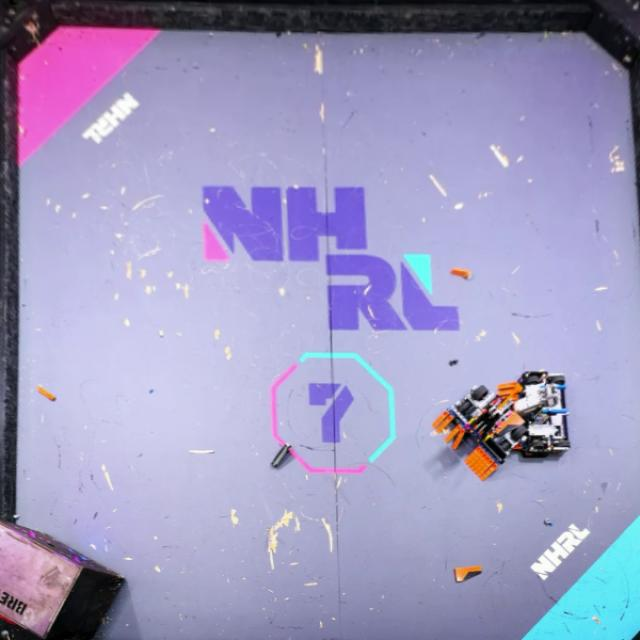housebot: (0, 520, 126, 640)
robot: (430, 384, 529, 480), (497, 370, 570, 457)
